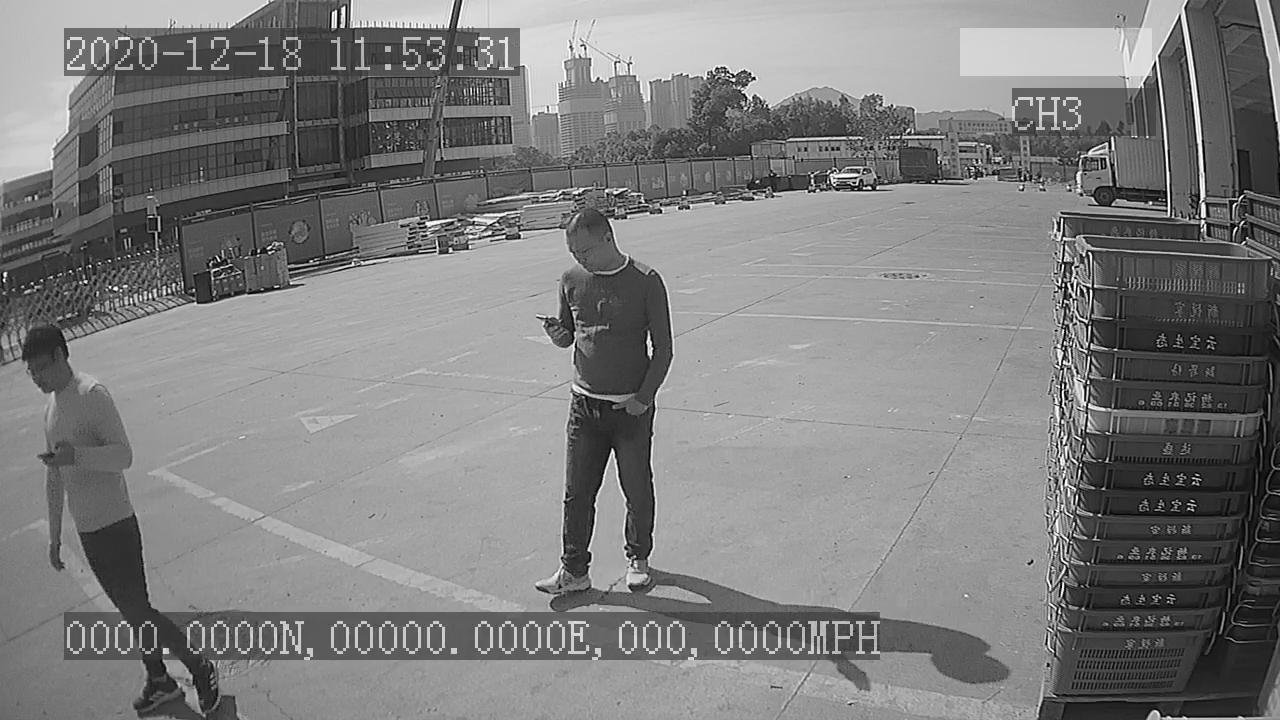person: (526, 204, 681, 604)
